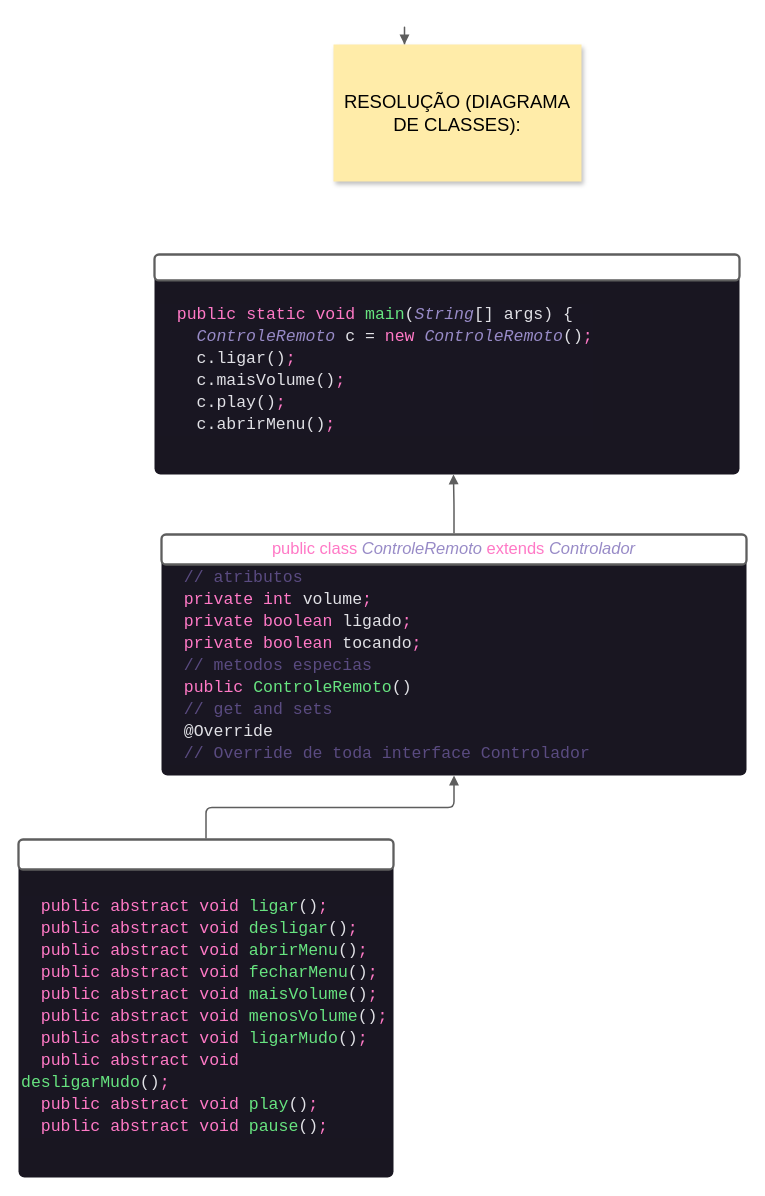
Image size: 765x1196. Some labels were removed from this diagram. The shapes that lost their labels are listed below. From the top down, each one's centre as x and y in pixels, then its label:
At point 446,267: "public class eletro".
At point 205,854: "public interface Controlador".
